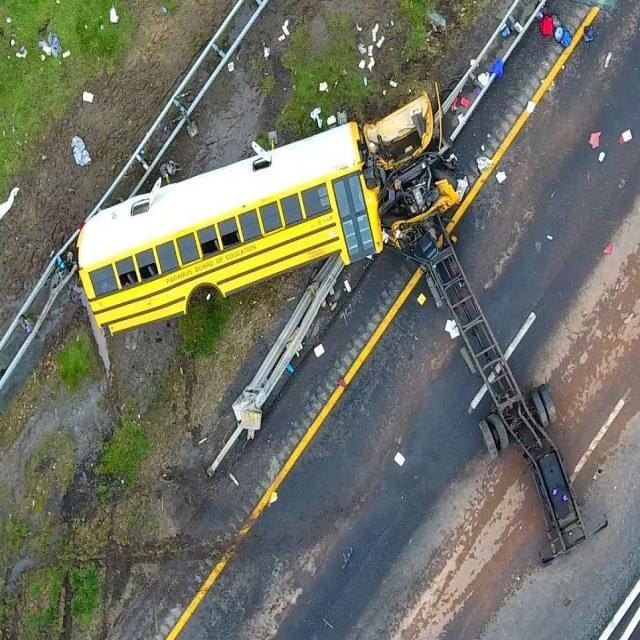traffic_incident: (75, 72, 448, 348)
